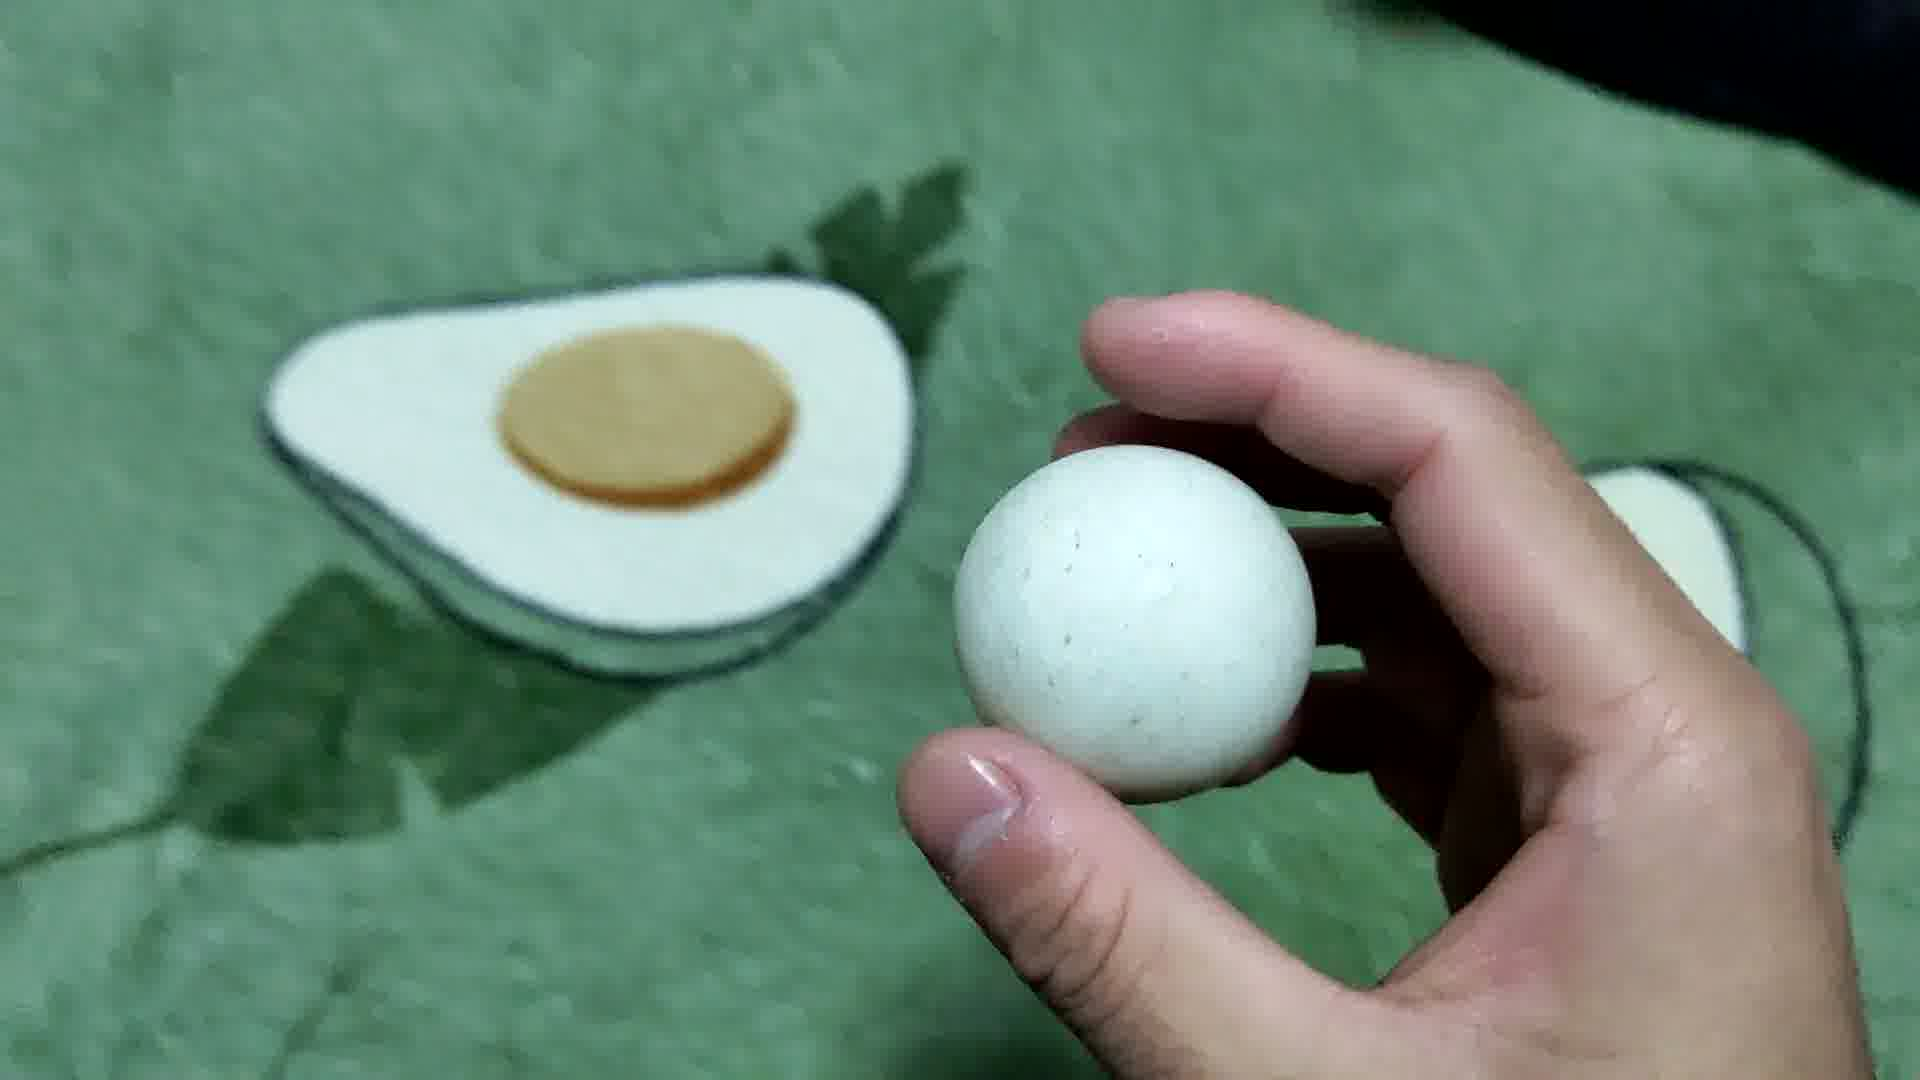Ball: (953, 442, 1320, 795)
